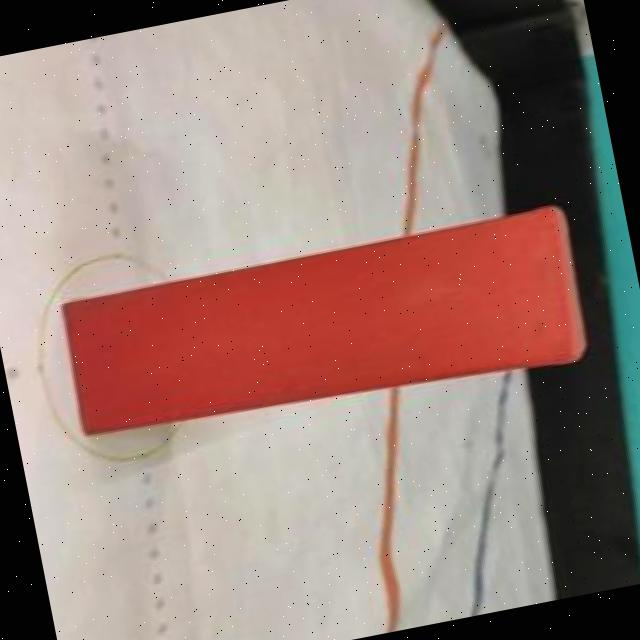redbox: (58, 205, 594, 454)
